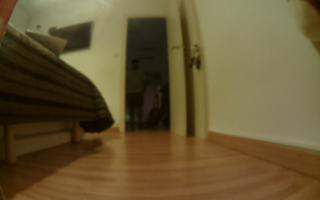person: (126, 60, 148, 130)
